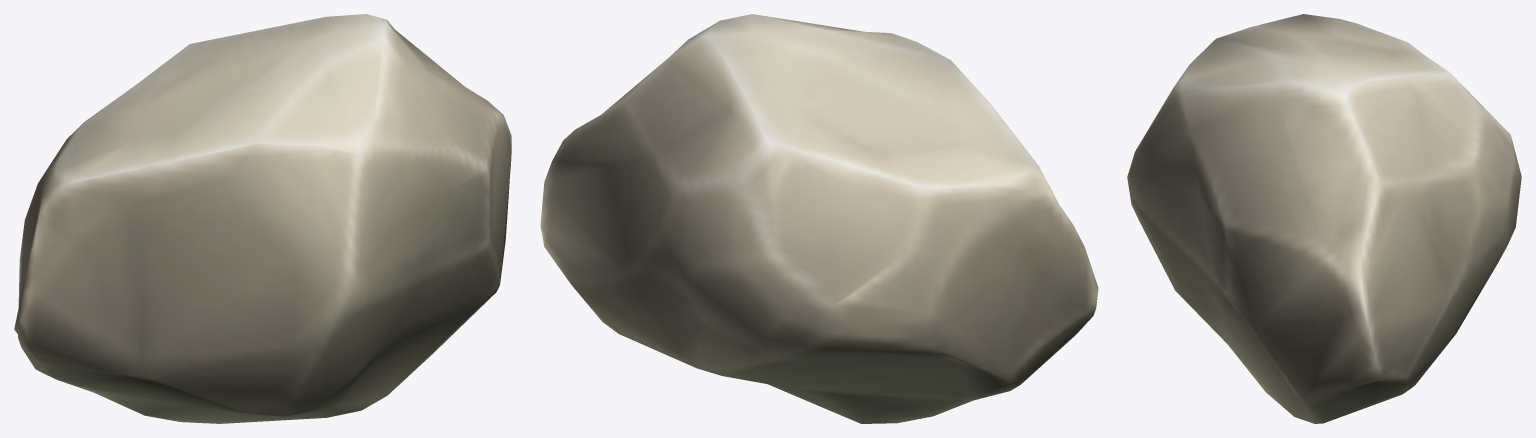
File: rock_04.glb
3 views of the same model, side by side, from view 1: azimuth 30°, elevation 25°; view 2: azimuth 150°, elevation 25°; view 3: azimuth 270°, elevation 25° (orthographic). The views are drawn at different scales.
Parts seen in each view (by area): view 1: rock; view 2: rock; view 3: rock.
Part boxes in pixels (x1,y1,x2,y2): rock: [14, 14, 511, 423]; rock: [540, 14, 1098, 423]; rock: [1127, 14, 1521, 423].
Size of the model in its own units: 1.4 by 0.9315 by 0.9717.
1 material, 1 textured.
